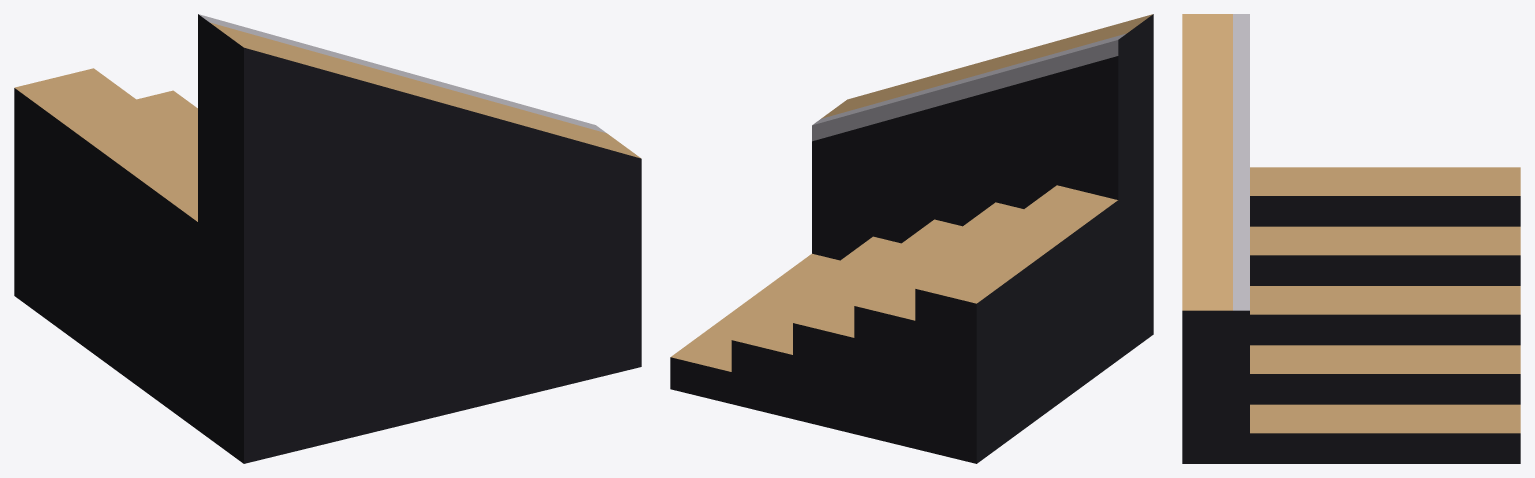
The model's file is Ledge_Stairs_LRG_L.fbx.
3 views of the same model, side by side, from view 1: azimuth 30°, elevation 25°; view 2: azimuth 150°, elevation 25°; view 3: azimuth 270°, elevation 25° (orthographic). The views are drawn at different scales.
Parts seen in each view (by area): view 1: Ledge_Stairs_LRG_L; view 2: Ledge_Stairs_LRG_L; view 3: Ledge_Stairs_LRG_L.
Part boxes in pixels (left/top/right/bottom): Ledge_Stairs_LRG_L: left=14, top=14, right=641, bottom=463; Ledge_Stairs_LRG_L: left=670, top=14, right=1153, bottom=463; Ledge_Stairs_LRG_L: left=1182, top=14, right=1520, bottom=463.
Bounding box in the file's own units: 10 × 10 × 10.
